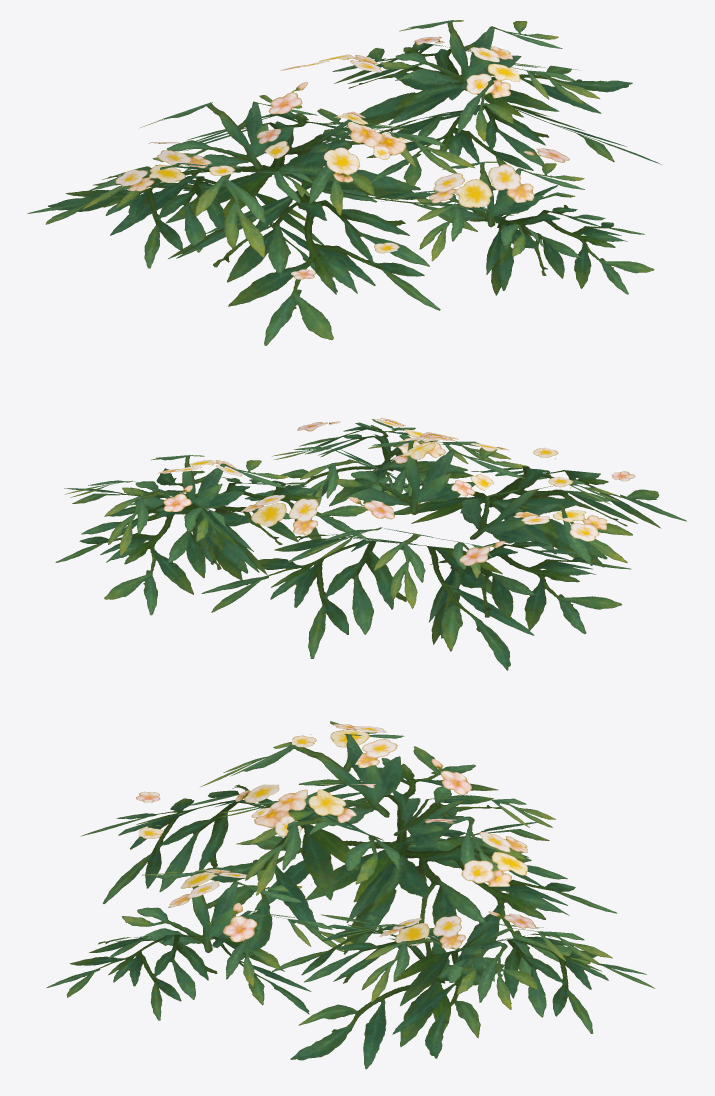
File: 4007_Item_hua_2.FBX
The picture shows the model from 3 angles, top to bottom: view 1: azimuth 30°, elevation 25°; view 2: azimuth 150°, elevation 25°; view 3: azimuth 270°, elevation 25°; orthographic projection. The views are drawn at different scales.
Visible parts, largest first — view 1: 4007_Item_hua_2; view 2: 4007_Item_hua_2; view 3: 4007_Item_hua_2.
Part boxes in pixels (box(x1,y1,x2,y2)): 4007_Item_hua_2: box(27, 20, 661, 345); 4007_Item_hua_2: box(55, 417, 686, 670); 4007_Item_hua_2: box(46, 721, 654, 1069).
Size of the model in its own units: 221 by 49.24 by 195.
